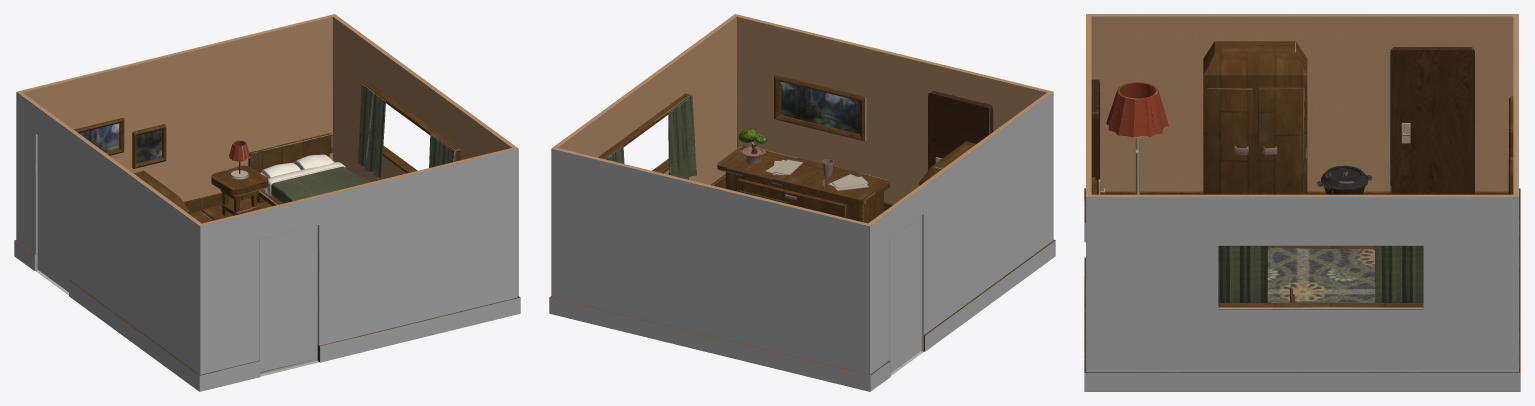
File: BedRoom2.fbx
The picture shows the model from 3 angles, left to right: view 1: azimuth 30°, elevation 25°; view 2: azimuth 150°, elevation 25°; view 3: azimuth 270°, elevation 25°; orthographic projection. The views are drawn at different scales.
Parts seen in each view (by area): view 1: Cube.007, Cube.008, Door1, Bed, Door1.001, Cube, SideTable, Cube.002, Cube.003, Window5, Floor_Bed, Cube.001 (+2 smaller); view 2: Cube.007, Cube.008, Drawer, Door1.001, Cube.004, Door1, Cube.001, Window5, Cylinder.003, Closet, Cube.005; view 3: Cube.007, Closet, Door1.001, Cube.008, Cube.009, Cylinder.002, Cube.001, Cube, Window5, Cylinder, Door1.
Part boxes in pixels (x1,y1,x2,y2): Cube.007: (16, 14, 518, 376); Cube.008: (14, 192, 520, 391); Door1: (259, 225, 317, 372); Bed: (248, 133, 369, 206); Door1.001: (37, 135, 70, 291); Cube: (357, 83, 385, 177); SideTable: (211, 165, 268, 215); Cube.002: (132, 124, 166, 168); Cube.003: (74, 118, 124, 155); Window5: (362, 81, 460, 173); Floor_Bed: (190, 199, 317, 374); Cube.001: (429, 134, 454, 167); Cube.007: (551, 14, 1053, 375); Cube.008: (549, 174, 1055, 391); Drawer: (717, 145, 889, 223); Door1.001: (889, 216, 921, 372); Cube.004: (774, 74, 866, 141); Door1: (928, 91, 993, 170); Cube.001: (668, 95, 696, 179); Window5: (598, 93, 691, 173); Cylinder.003: (738, 128, 766, 164); Closet: (919, 141, 975, 185); Cube.005: (828, 174, 868, 190); Cube.007: (1086, 14, 1518, 372); Closet: (1203, 41, 1307, 194); Door1.001: (1390, 47, 1474, 194); Cube.008: (1084, 188, 1520, 391); Cube.009: (1267, 247, 1375, 302); Cylinder.002: (1106, 82, 1169, 194); Cube.001: (1218, 246, 1267, 302); Cube: (1375, 246, 1423, 302); Window5: (1218, 303, 1423, 309); Cylinder: (1316, 165, 1372, 194); Door1: (1091, 79, 1104, 194).
Bounding box in the file's own units: 679 × 336 × 679.
